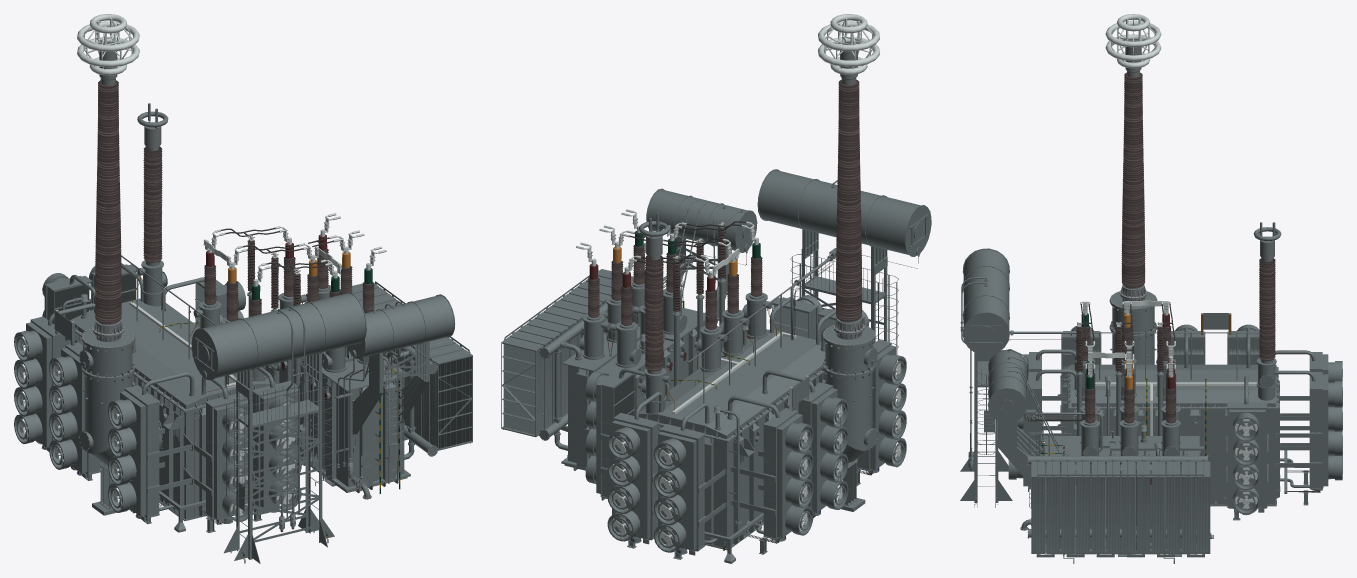
File: 500KVGIS.glb
3 views of the same model, side by side, from view 1: azimuth 30°, elevation 25°; view 2: azimuth 150°, elevation 25°; view 3: azimuth 270°, elevation 25° (orthographic). The views are drawn at different scales.
Parts seen in each view (by area): view 1: SM_110KV_4BYZB_01; view 2: SM_110KV_4BYZB_01; view 3: SM_110KV_4BYZB_01.
Part boxes in pixels (box(x1,y1,x2,y2)): SM_110KV_4BYZB_01: box(14, 14, 472, 563); SM_110KV_4BYZB_01: box(501, 14, 931, 563); SM_110KV_4BYZB_01: box(960, 14, 1342, 563).
Size of the model in its own units: 13.67 by 19.02 by 15.29.
13 materials, 13 textured.
